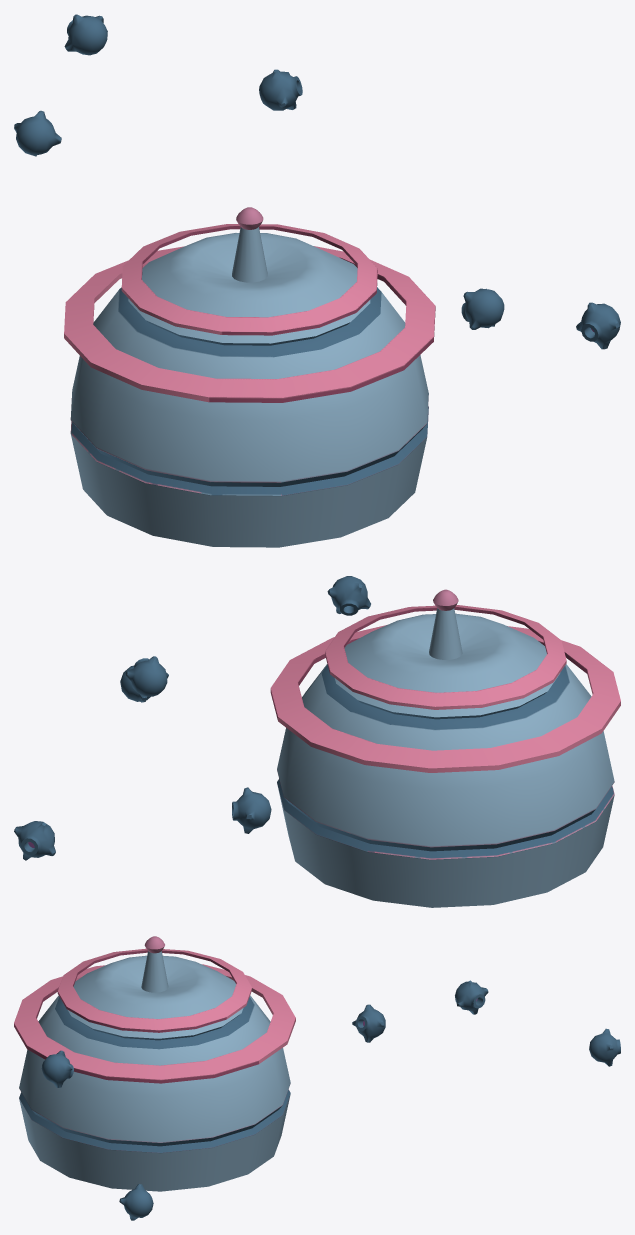
Rendered from Tech_02.fbx.
The picture shows the model from 3 angles, top to bottom: view 1: azimuth 30°, elevation 25°; view 2: azimuth 150°, elevation 25°; view 3: azimuth 270°, elevation 25°; orthographic projection. The views are drawn at different scales.
Parts seen in each view (by area): view 1: Tech_02_good; view 2: Tech_02_good; view 3: Tech_02_good.
Part boxes in pixels (x1,y1,x2,y2): Tech_02_good: (14,14,620,547); Tech_02_good: (14,576,620,907); Tech_02_good: (14,936,620,1220).
Size of the model in its own units: 49.27 by 24.27 by 66.51.
